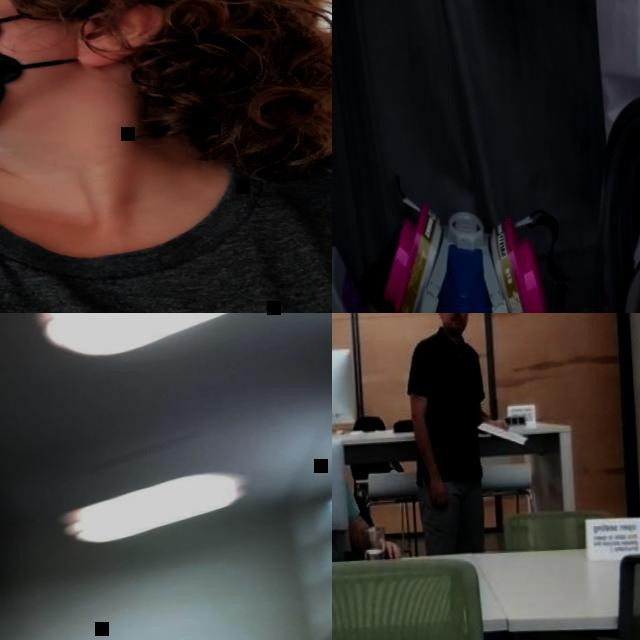Mask: (373, 195, 548, 313), (0, 0, 115, 157)
NO-Mask: (440, 313, 467, 336)
NO-Safety Vest: (0, 149, 332, 313), (405, 333, 488, 487)
Person: (0, 0, 332, 313), (400, 313, 513, 553), (332, 368, 402, 566)
